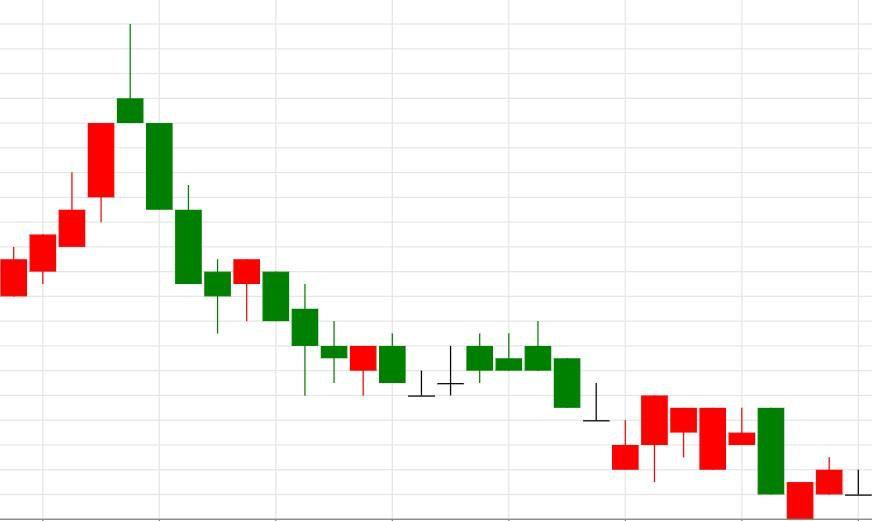shooting_star_fall: (0, 23, 144, 296)
three_black_crows_fall: (0, 24, 203, 296)
